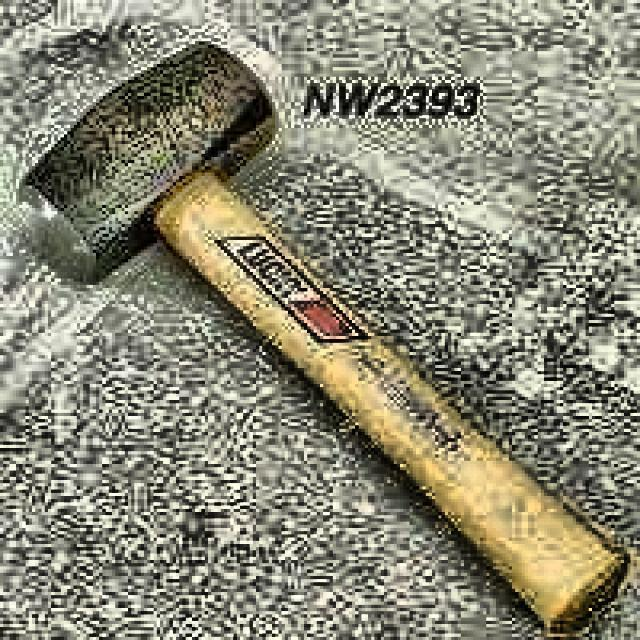hammer: (18, 40, 632, 634)
